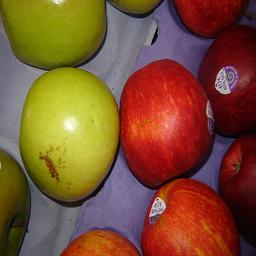apple: (17, 66, 120, 207), (119, 60, 214, 187), (141, 177, 242, 256), (1, 1, 106, 69), (200, 25, 256, 140)
